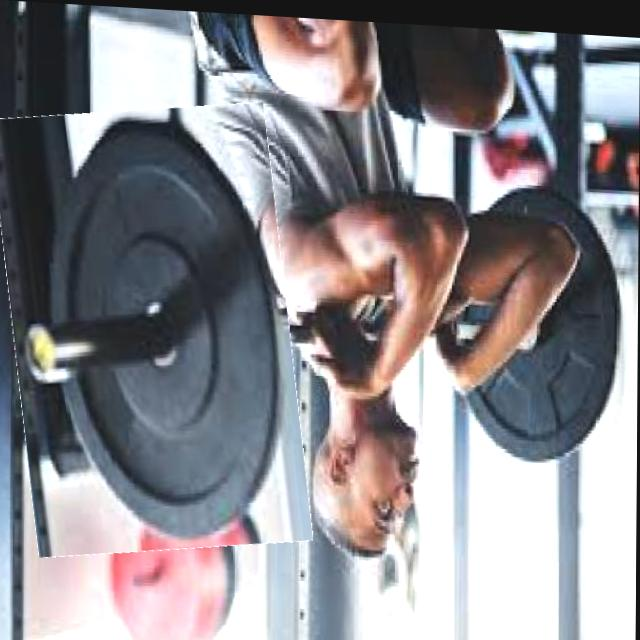barbell: (1, 96, 304, 562)
